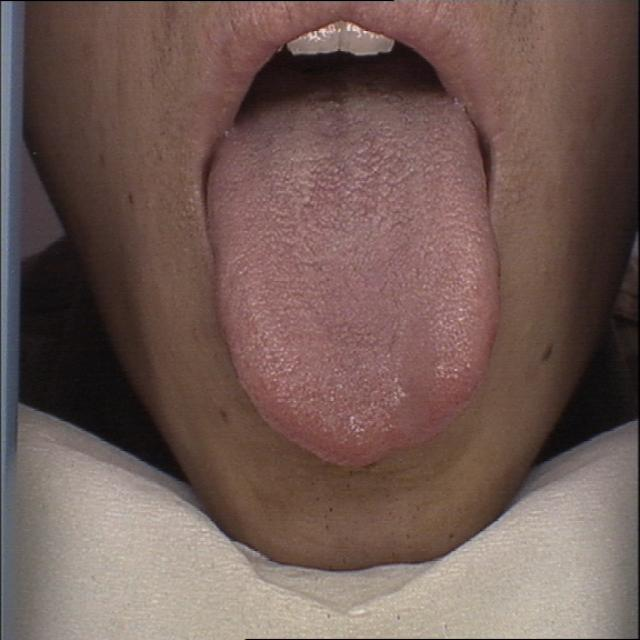tongue: (200, 79, 507, 477)
